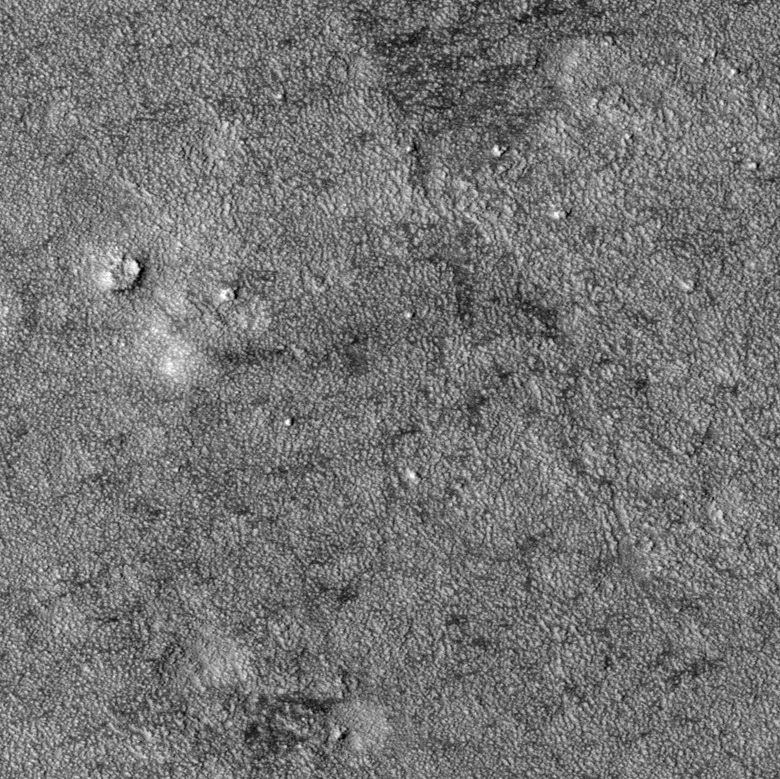dust_devil: (160, 340, 288, 384)
